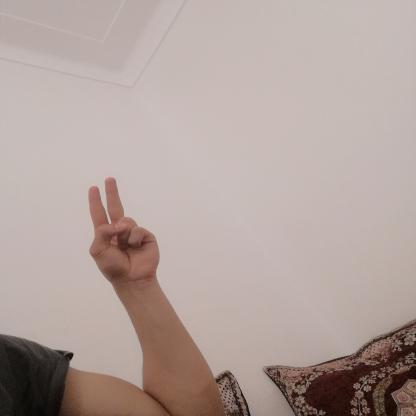TA: (69, 169, 170, 293)
